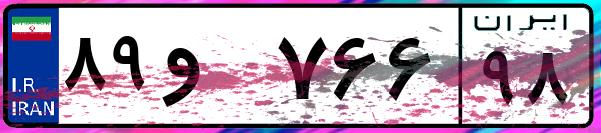6: (385, 28, 445, 110), (330, 28, 385, 110)
7: (270, 28, 330, 110)
8: (57, 26, 110, 100), (525, 38, 570, 115)
9: (475, 38, 525, 113), (110, 28, 158, 98)
و: (158, 20, 270, 120)
